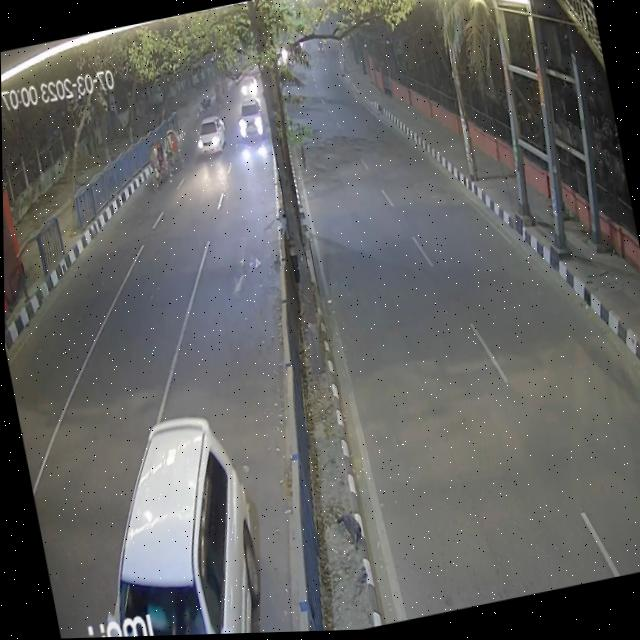rikshaw: (141, 139, 174, 197), (159, 123, 184, 170)
